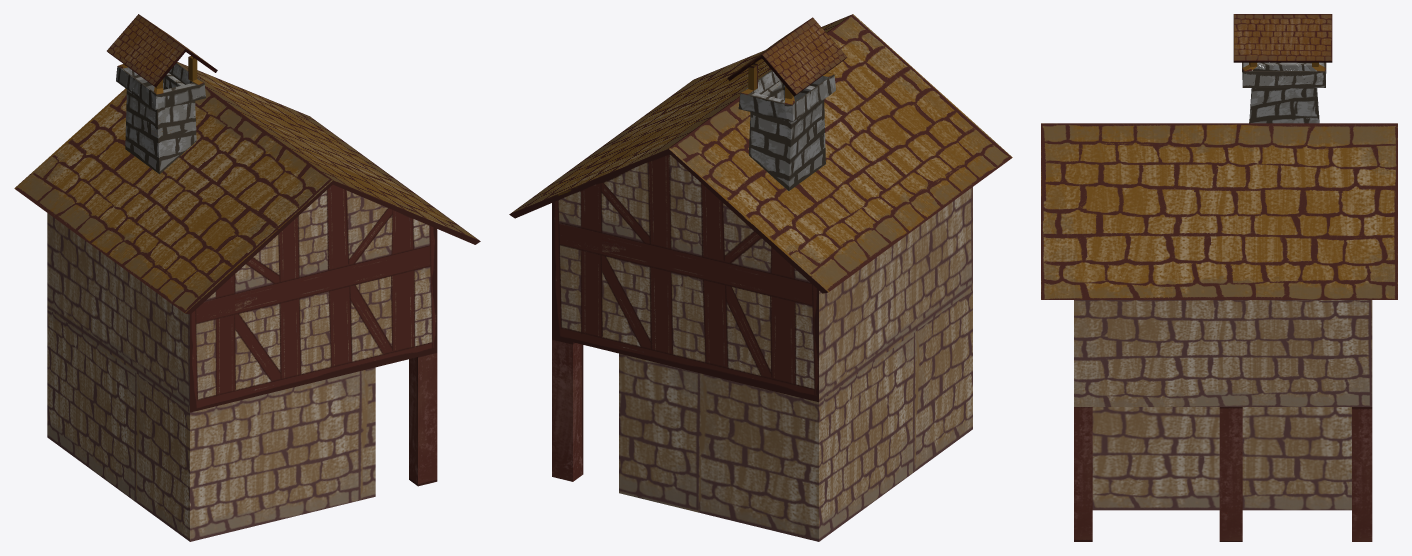
The model's file is Houses_Text.fbx.
The picture shows the model from 3 angles, left to right: view 1: azimuth 30°, elevation 25°; view 2: azimuth 150°, elevation 25°; view 3: azimuth 270°, elevation 25°; orthographic projection. The views are drawn at different scales.
Parts seen in each view (by area): view 1: House.002; view 2: House.002; view 3: House.002.
Part boxes in pixels (x1,y1,x2,y2): House.002: (14, 14, 480, 541); House.002: (509, 14, 1012, 541); House.002: (1041, 14, 1397, 541).
Bounding box in the file's own units: 170 × 230 × 170.
